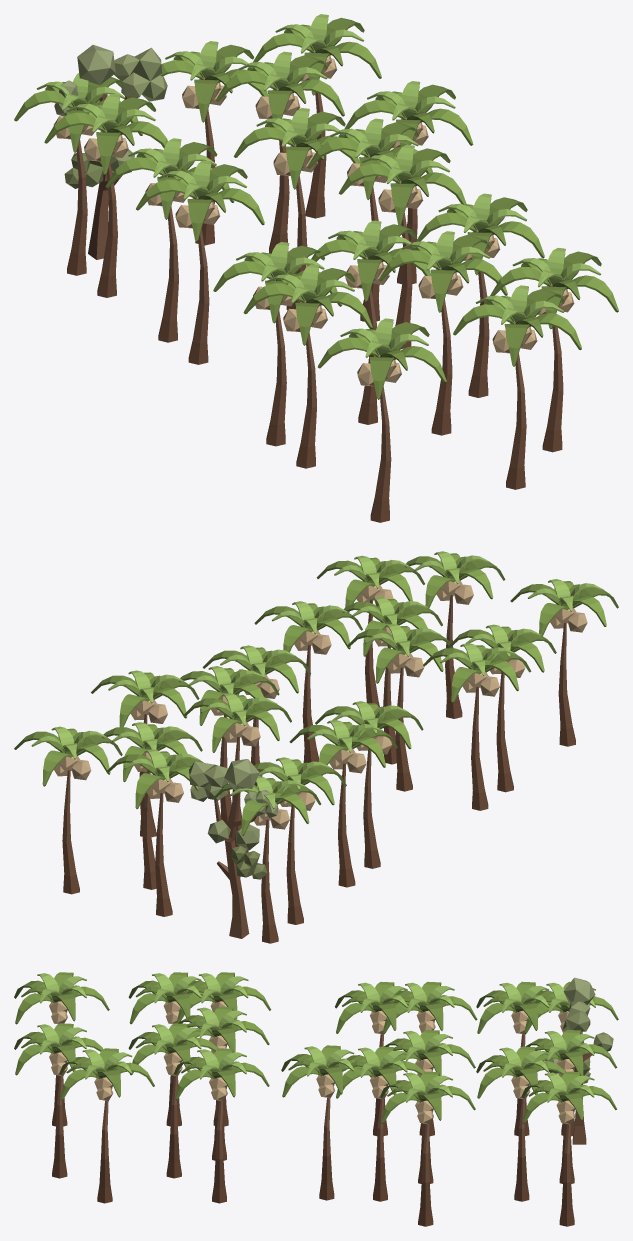
The picture shows the model from 3 angles, top to bottom: view 1: azimuth 30°, elevation 25°; view 2: azimuth 150°, elevation 25°; view 3: azimuth 270°, elevation 25°; orthographic projection. The views are drawn at different scales.
Parts seen in each view (by area): view 1: deciduous_tree_11, palm_1.133, palm_1.132, palm_1.122, palm_1.123, palm_1.126, palm_1.124, palm_1.134, palm_1.125, palm_1.109, palm_1.113, palm_1.112 (+8 smaller); view 2: deciduous_tree_11, palm_1.112, palm_1.133, palm_1.120, palm_1.121, palm_1.110, palm_1.113, palm_1.111, palm_1.132, palm_1.119, palm_1.134, palm_1.123 (+8 smaller); view 3: palm_1.112, palm_1.134, palm_1.113, palm_1.114, palm_1.132, palm_1.125, palm_1.109, palm_1.126, palm_1.127, palm_1.133, palm_1.124, palm_1.122 (+8 smaller).
Part boxes in pixels (x1,y1,x2,y2): deciduous_tree_11: [54, 44, 167, 259]; palm_1.133: [318, 318, 446, 522]; palm_1.132: [453, 285, 581, 489]; palm_1.122: [136, 160, 264, 364]; palm_1.123: [243, 264, 372, 468]; palm_1.126: [379, 231, 507, 435]; palm_1.124: [44, 93, 167, 297]; palm_1.134: [490, 248, 618, 452]; palm_1.125: [216, 51, 344, 253]; palm_1.109: [338, 144, 466, 348]; palm_1.113: [416, 193, 544, 397]; palm_1.112: [253, 14, 381, 218]; deciduous_tree_11: [189, 759, 278, 938]; palm_1.112: [14, 726, 122, 894]; palm_1.133: [510, 579, 618, 746]; palm_1.120: [423, 643, 531, 810]; palm_1.121: [289, 719, 397, 887]; palm_1.110: [347, 624, 453, 791]; palm_1.113: [254, 601, 362, 762]; palm_1.111: [107, 749, 203, 916]; palm_1.132: [404, 551, 505, 718]; palm_1.119: [213, 776, 320, 943]; palm_1.134: [316, 555, 424, 706]; palm_1.123: [448, 624, 556, 792]; palm_1.112: [521, 1071, 616, 1226]; palm_1.134: [59, 1048, 154, 1203]; palm_1.113: [174, 1048, 269, 1203]; palm_1.114: [380, 1071, 475, 1226]; palm_1.132: [14, 1023, 103, 1178]; palm_1.125: [476, 1046, 565, 1201]; palm_1.109: [281, 1045, 371, 1200]; palm_1.126: [128, 1023, 217, 1178]; palm_1.127: [336, 1046, 423, 1201]; palm_1.133: [14, 972, 109, 1126]; palm_1.124: [476, 981, 561, 1135]; palm_1.122: [335, 982, 420, 1135].
Size of the model in its own units: 12.97 by 7 by 23.33.
Materials: 20 (20 with a texture image).
